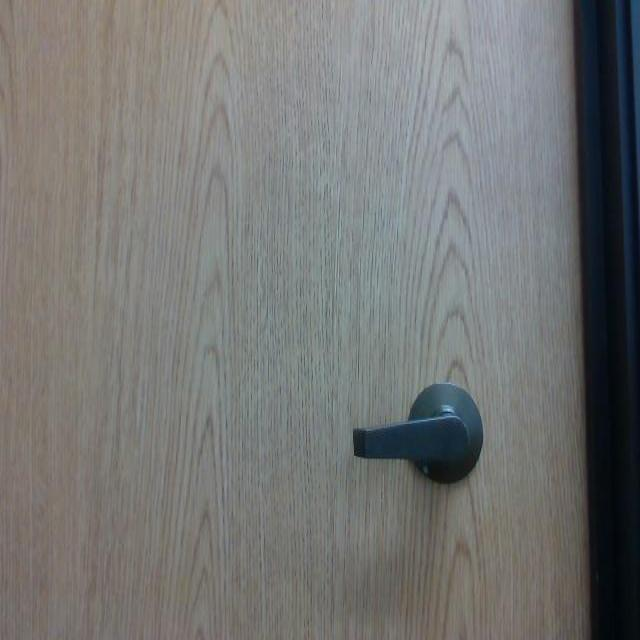doorhandle: (347, 381, 486, 488)
